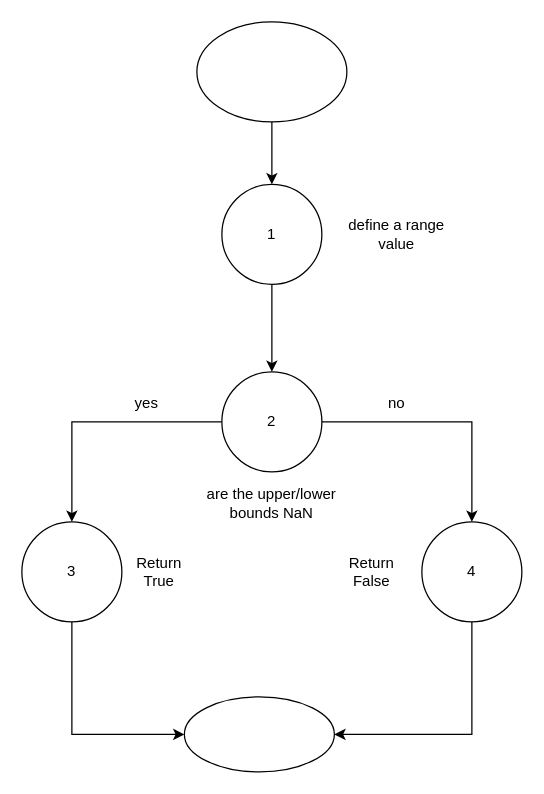
This 544x794 diagram has some shape labels left out. Each missing label, with the centre of its shape:
End: [258,734]
start: [271,71]
